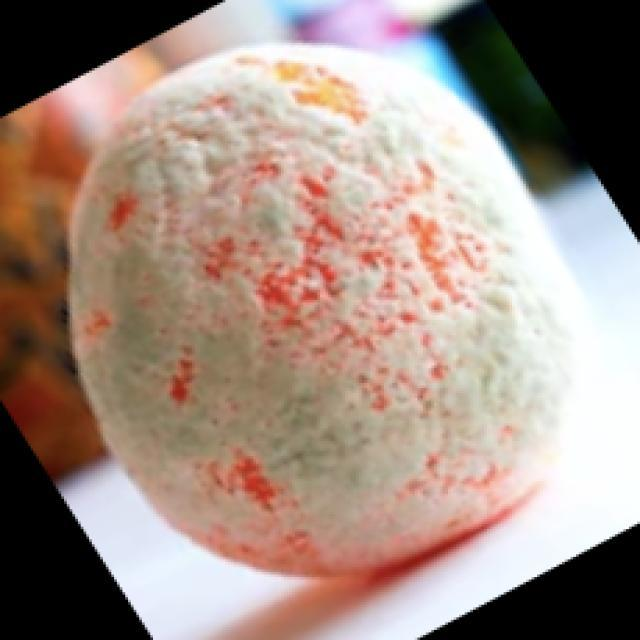sangat-busuk: (67, 41, 586, 573)
